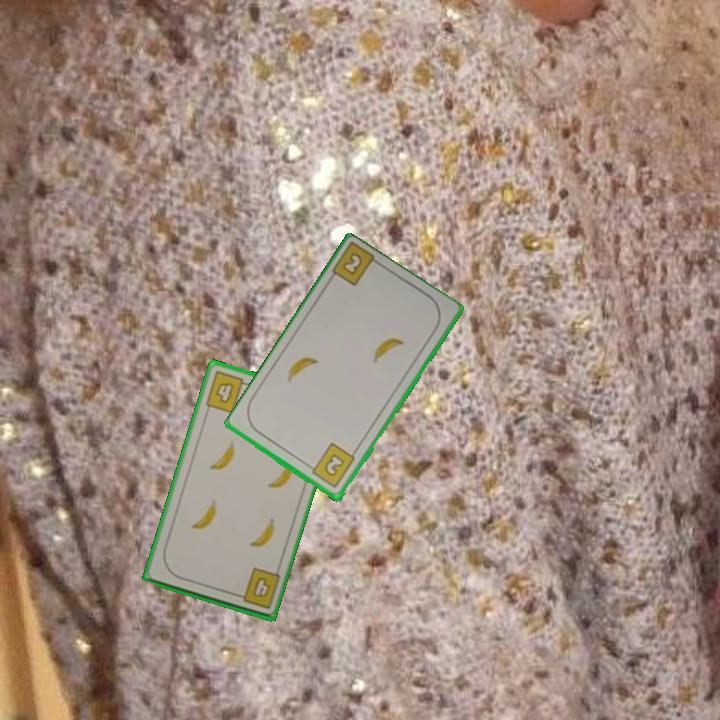2b: (304, 440, 358, 491), (339, 249, 365, 279)
4b: (201, 367, 253, 416), (231, 564, 283, 612)
